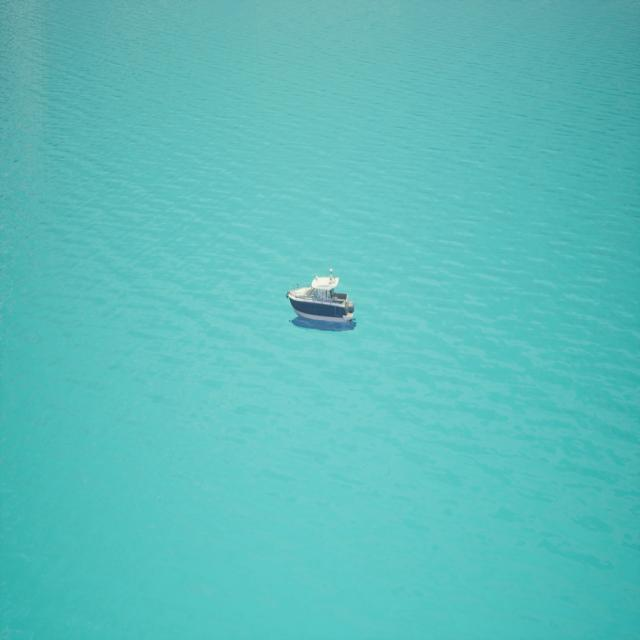ship: (288, 271, 356, 331)
